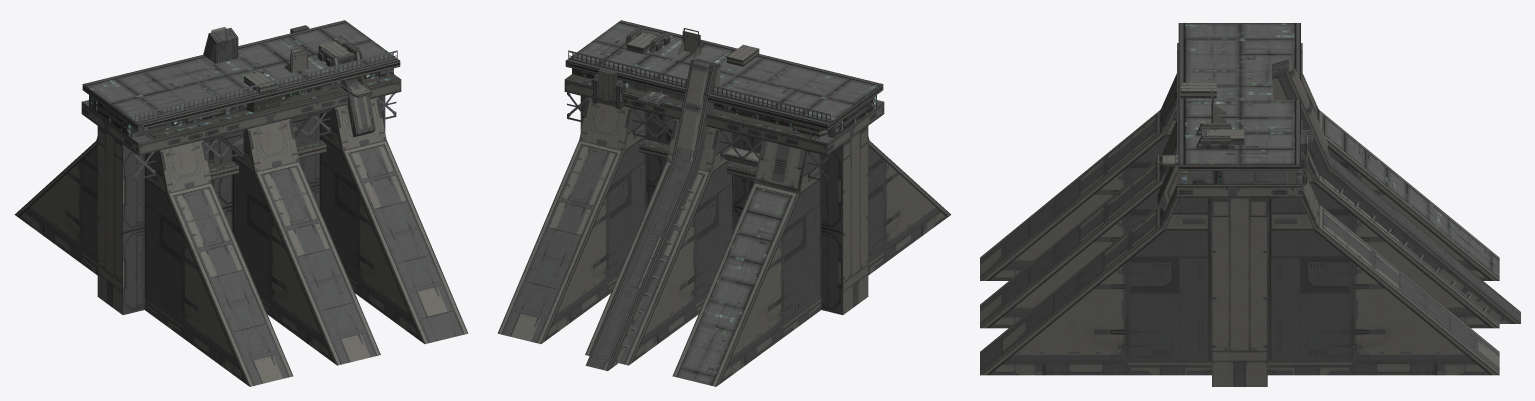
File: Wall_Large1.gltf
The picture shows the model from 3 angles, left to right: view 1: azimuth 30°, elevation 25°; view 2: azimuth 150°, elevation 25°; view 3: azimuth 270°, elevation 25°; orthographic projection. The views are drawn at different scales.
Visible parts, largest first — view 1: Wall_Large1; view 2: Wall_Large1; view 3: Wall_Large1.
Part boxes in pixels (bbox=[...]): Wall_Large1: bbox=[14, 20, 468, 386]; Wall_Large1: bbox=[497, 20, 951, 386]; Wall_Large1: bbox=[980, 23, 1520, 386].
Size of the model in its own units: 50 by 41.82 by 80.87.
